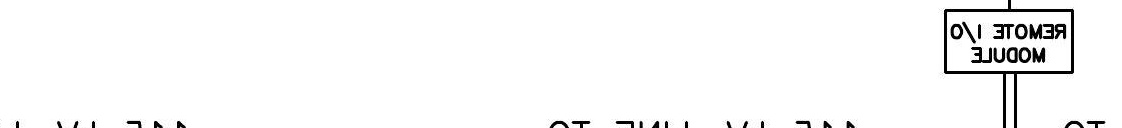remote_io_module: (944, 9, 1075, 75)
